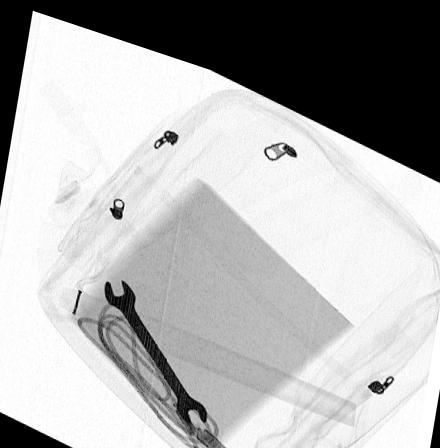Wrench: (101, 270, 209, 415)
